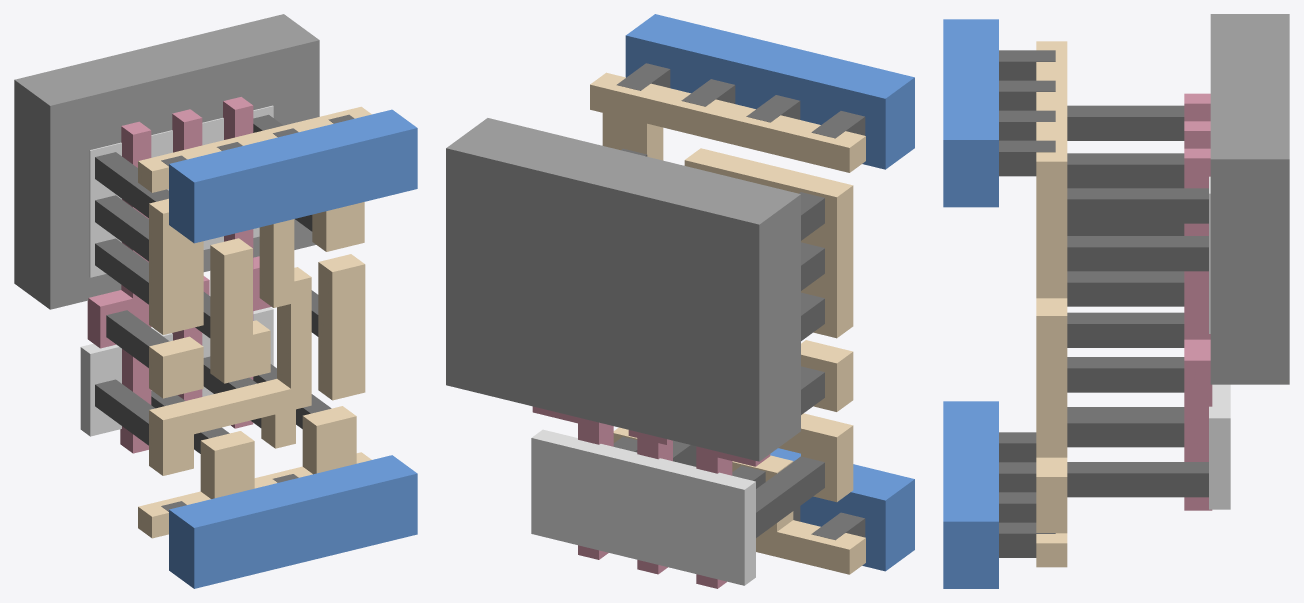
The model's file is sky130_fd_sc_hd__nor3_1.gds.gltf.
3 views of the same model, side by side, from view 1: azimuth 30°, elevation 25°; view 2: azimuth 150°, elevation 25°; view 3: azimuth 270°, elevation 25° (orthographic). The views are drawn at different scales.
Parts seen in each view (by area): view 1: sky130_fd_sc_hd__nor3_1_li1, sky130_fd_sc_hd__nor3_1_met1, sky130_fd_sc_hd__nor3_1_nwell, sky130_fd_sc_hd__nor3_1_licon, sky130_fd_sc_hd__nor3_1_poly, sky130_fd_sc_hd__nor3_1_diff, sky130_fd_sc_hd__nor3_1_mcon; view 2: sky130_fd_sc_hd__nor3_1_nwell, sky130_fd_sc_hd__nor3_1_li1, sky130_fd_sc_hd__nor3_1_met1, sky130_fd_sc_hd__nor3_1_diff, sky130_fd_sc_hd__nor3_1_licon, sky130_fd_sc_hd__nor3_1_mcon, sky130_fd_sc_hd__nor3_1_poly; view 3: sky130_fd_sc_hd__nor3_1_licon, sky130_fd_sc_hd__nor3_1_nwell, sky130_fd_sc_hd__nor3_1_met1, sky130_fd_sc_hd__nor3_1_li1, sky130_fd_sc_hd__nor3_1_mcon, sky130_fd_sc_hd__nor3_1_poly, sky130_fd_sc_hd__nor3_1_diff.
Part boxes in pixels (box(x1,y1,x2,y2)): sky130_fd_sc_hd__nor3_1_li1: box(138, 106, 371, 538); sky130_fd_sc_hd__nor3_1_met1: box(169, 109, 417, 588); sky130_fd_sc_hd__nor3_1_nwell: box(14, 14, 319, 309); sky130_fd_sc_hd__nor3_1_licon: box(95, 114, 331, 453); sky130_fd_sc_hd__nor3_1_poly: box(87, 97, 271, 453); sky130_fd_sc_hd__nor3_1_diff: box(80, 105, 273, 436); sky130_fd_sc_hd__nor3_1_mcon: box(161, 114, 354, 511); sky130_fd_sc_hd__nor3_1_nwell: box(446, 118, 800, 461); sky130_fd_sc_hd__nor3_1_li1: box(590, 72, 865, 574); sky130_fd_sc_hd__nor3_1_met1: box(625, 14, 914, 571); sky130_fd_sc_hd__nor3_1_diff: box(531, 429, 755, 585); sky130_fd_sc_hd__nor3_1_licon: box(613, 148, 824, 537); sky130_fd_sc_hd__nor3_1_mcon: box(617, 63, 865, 540); sky130_fd_sc_hd__nor3_1_poly: box(532, 406, 770, 588); sky130_fd_sc_hd__nor3_1_licon: box(1067, 105, 1208, 497); sky130_fd_sc_hd__nor3_1_nwell: box(1210, 14, 1289, 384); sky130_fd_sc_hd__nor3_1_met1: box(943, 19, 998, 588); sky130_fd_sc_hd__nor3_1_li1: box(1036, 41, 1067, 567); sky130_fd_sc_hd__nor3_1_mcon: box(999, 50, 1055, 557); sky130_fd_sc_hd__nor3_1_poly: box(1184, 93, 1212, 510); sky130_fd_sc_hd__nor3_1_diff: box(1209, 176, 1230, 509).
Size of the model in its own units: 2.22 by 3.2 by 2.24.
